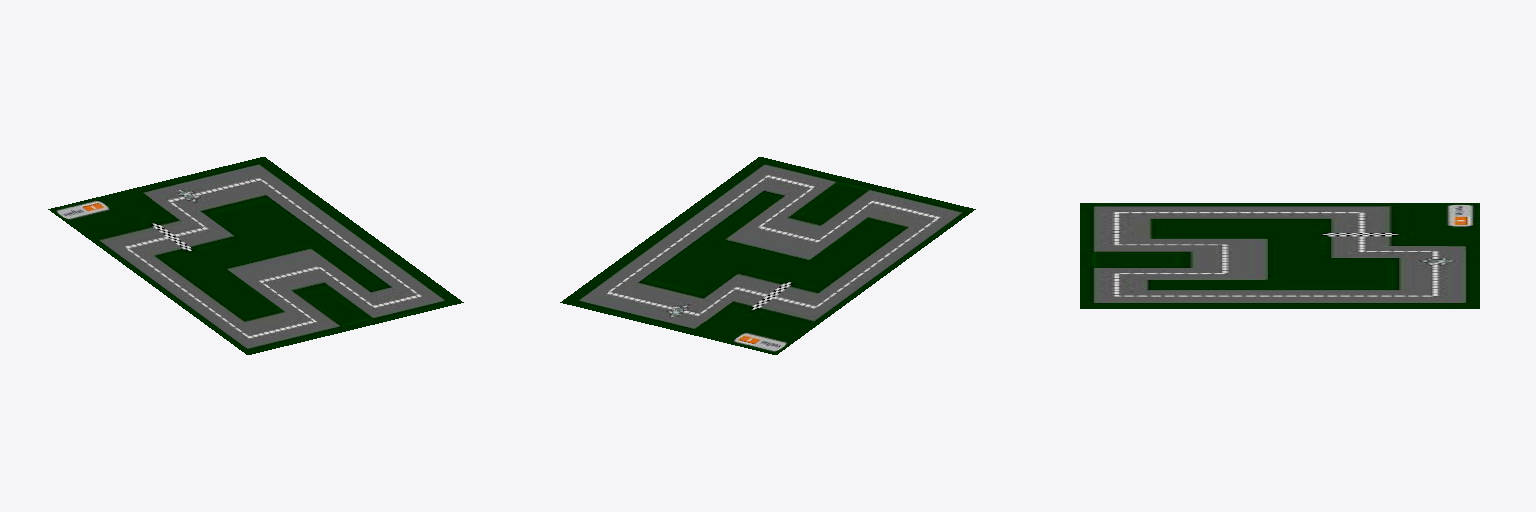
3 renders of one model, left to right at view 1: azimuth 30°, elevation 25°; view 2: azimuth 150°, elevation 25°; view 3: azimuth 270°, elevation 25°, orthographic.
Parts seen in each view (by area): view 1: Plane001; view 2: Plane001; view 3: Plane001.
Boxes of the visible parts, x1=… form: Plane001: x1=48, y1=157, x2=463, y2=354; Plane001: x1=560, y1=157, x2=975, y2=354; Plane001: x1=1080, y1=203, x2=1479, y2=308.
Bounding box in the file's own units: 272 × 0 × 435.
Materials: 1 (1 with a texture image).